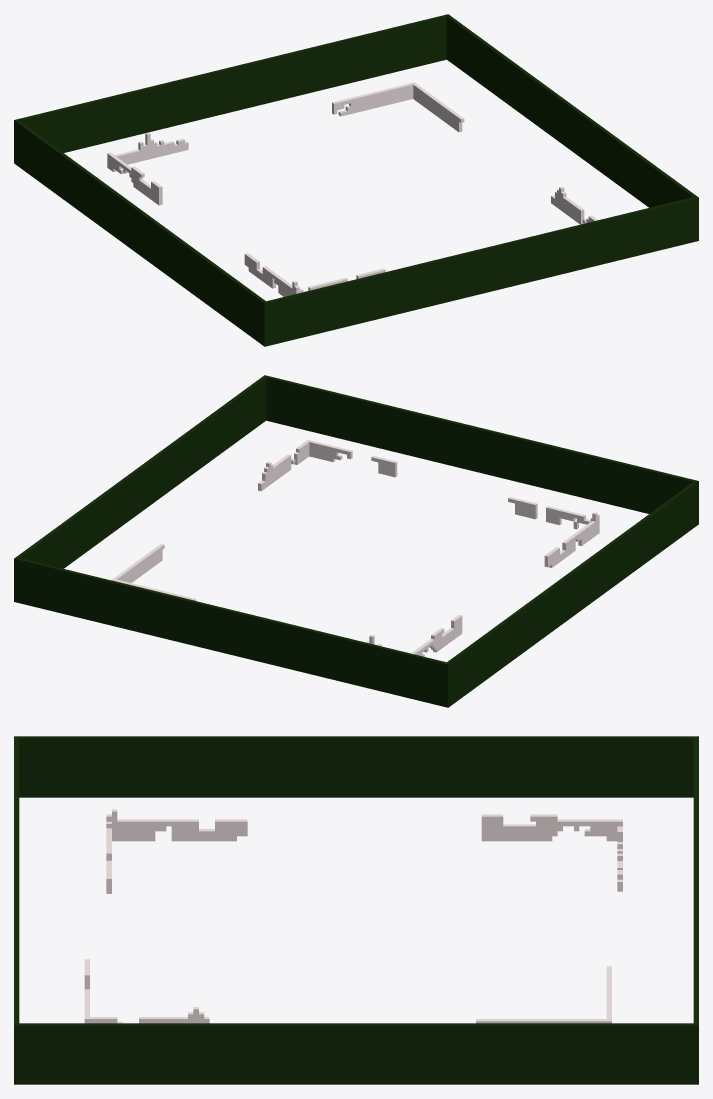
Rendered from wall.obj.
3 renders of one model, top to bottom at view 1: azimuth 30°, elevation 25°; view 2: azimuth 150°, elevation 25°; view 3: azimuth 270°, elevation 25°, orthographic. The views are drawn at different scales.
Bounding box in the file's own units: 126 × 12 × 126.
1 material, 1 textured.
